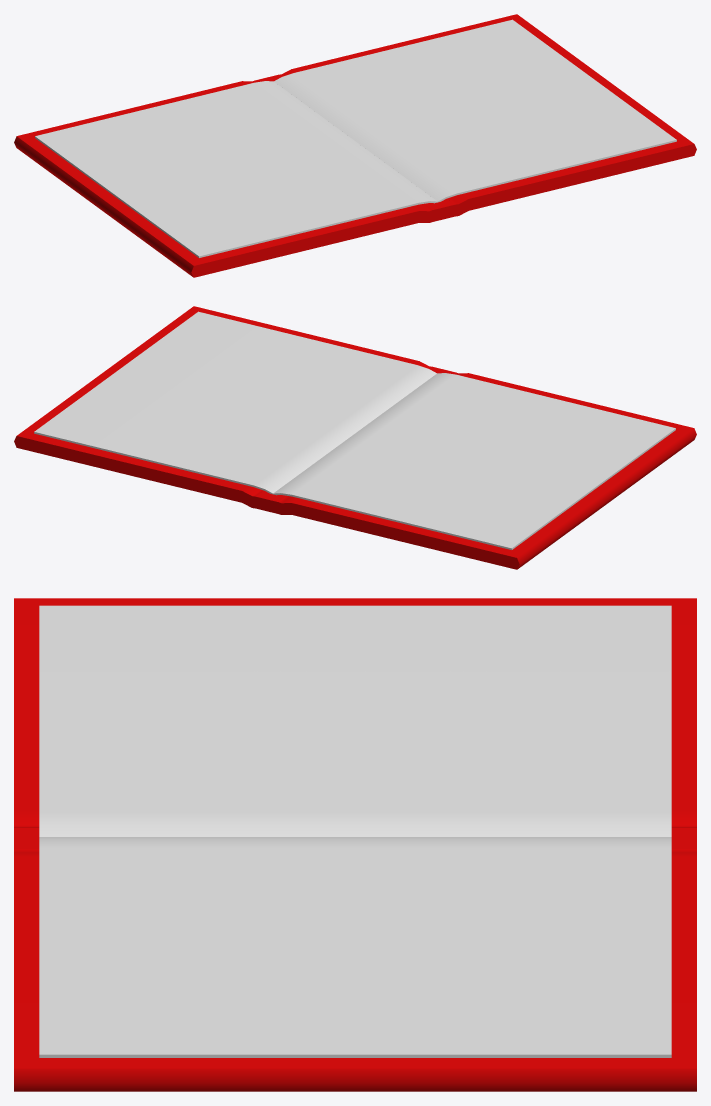
The model's file is Book.fbx.
The picture shows the model from 3 angles, top to bottom: view 1: azimuth 30°, elevation 25°; view 2: azimuth 150°, elevation 25°; view 3: azimuth 270°, elevation 25°; orthographic projection. The views are drawn at different scales.
Visible parts, largest first — view 1: pCube6, pCube5, pCube2, pCube3, pCube4; view 2: pCube6, pCube5, pCube2, pCube3, pCube4; view 3: pCube5, pCube6, pCube3, pCube2, pCube4.
Boxes of the visible parts, <box> form: pCube6: <box>274,19,676,202</box>; pCube5: <box>35,81,437,257</box>; pCube2: <box>14,80,432,277</box>; pCube3: <box>278,14,696,216</box>; pCube4: <box>256,75,455,221</box>; pCube6: <box>34,311,436,494</box>; pCube5: <box>273,373,675,549</box>; pCube2: <box>278,372,696,569</box>; pCube3: <box>14,306,432,508</box>; pCube4: <box>255,367,454,513</box>; pCube5: <box>39,605,671,836</box>; pCube6: <box>39,837,671,1057</box>; pCube3: <box>14,849,696,1091</box>; pCube2: <box>14,598,696,827</box>; pCube4: <box>14,827,696,848</box>.
Size of the model in its own units: 4.45 by 0.1396 by 2.7.
